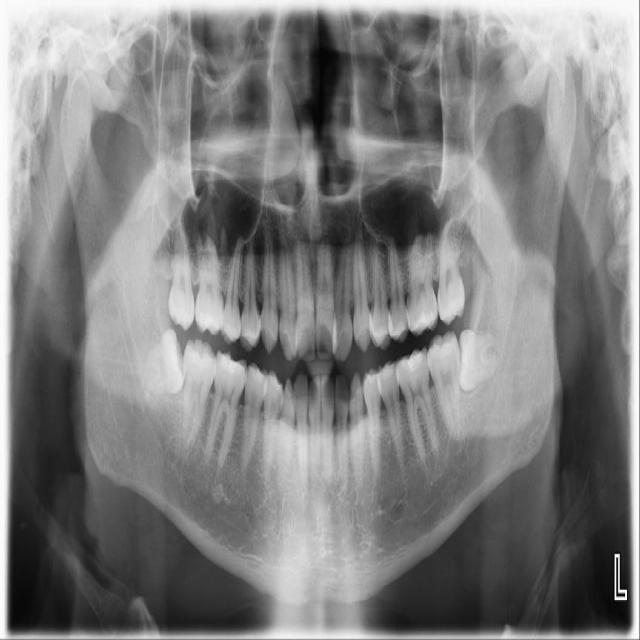52: (386, 342, 443, 397)
73: (608, 583, 620, 599)
BioHorizons Implant: (437, 211, 466, 327)
Biomet 3i Implant: (457, 328, 503, 393)
Blue Sky Bio Implant: (426, 331, 463, 442)
Caries: (167, 217, 197, 332)
Implant: (178, 336, 218, 449)
Keystone Dental Implant: (129, 325, 196, 402)
